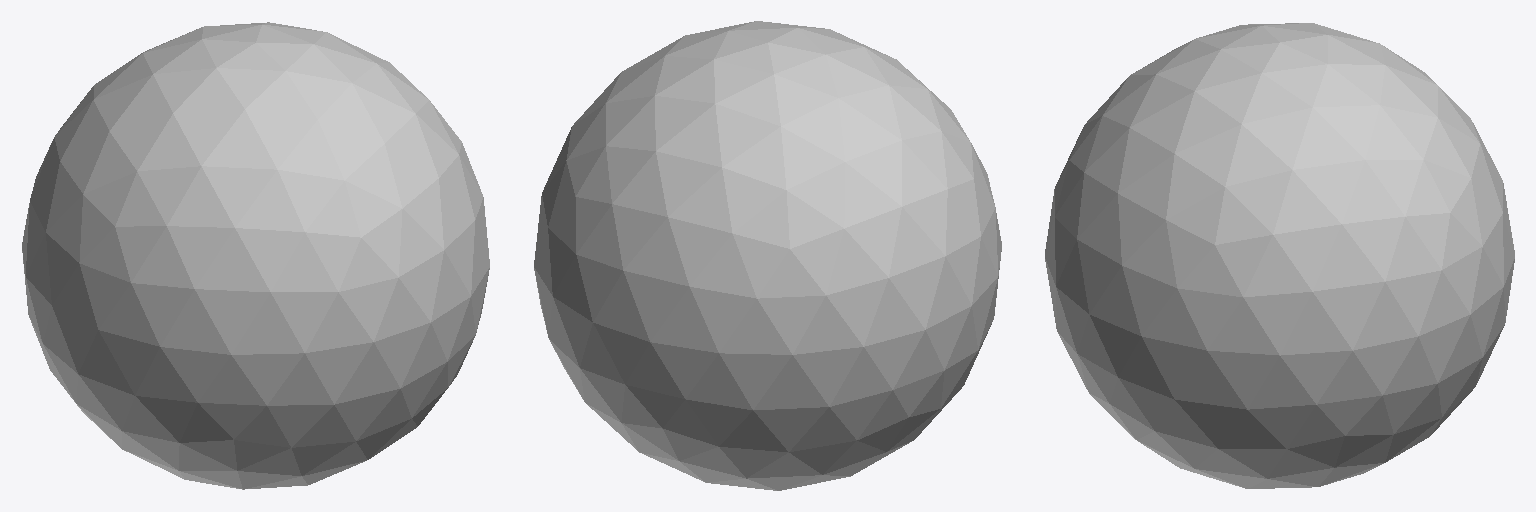
The model's file is sky.obj.
3 renders of one model, left to right at view 1: azimuth 30°, elevation 25°; view 2: azimuth 150°, elevation 25°; view 3: azimuth 270°, elevation 25°, orthographic.
Parts seen in each view (by area): view 1: F4:GeoDome3; view 2: F4:GeoDome3; view 3: F4:GeoDome3.
Part boxes in pixels (bbox=[...]): F4:GeoDome3: bbox=[22, 22, 489, 489]; F4:GeoDome3: bbox=[534, 21, 1001, 490]; F4:GeoDome3: bbox=[1045, 23, 1514, 488].
Bounding box in the file's own units: 2 × 2 × 2.